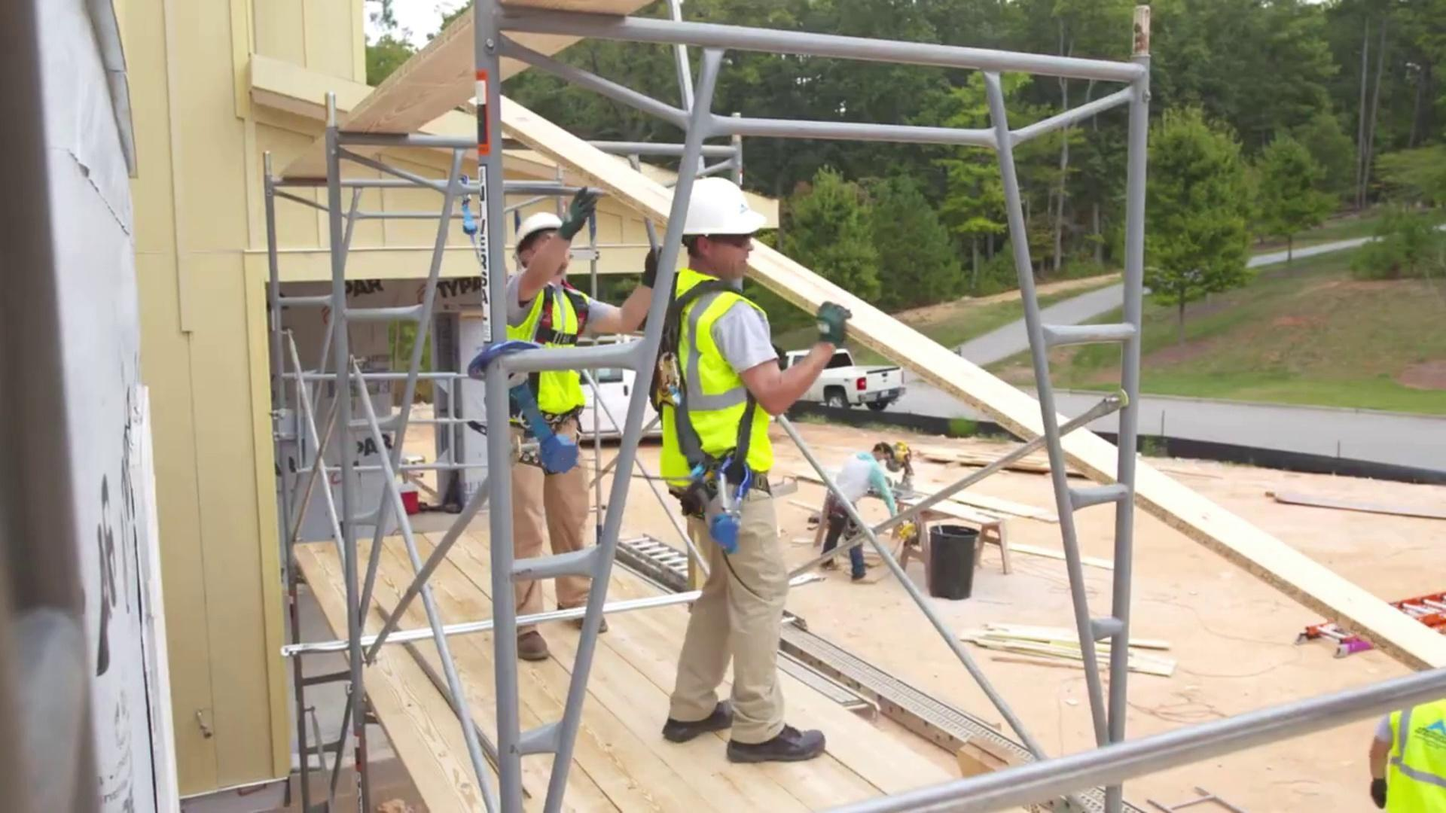apron: (558, 181, 603, 232), (812, 297, 859, 342), (1368, 775, 1392, 811)
